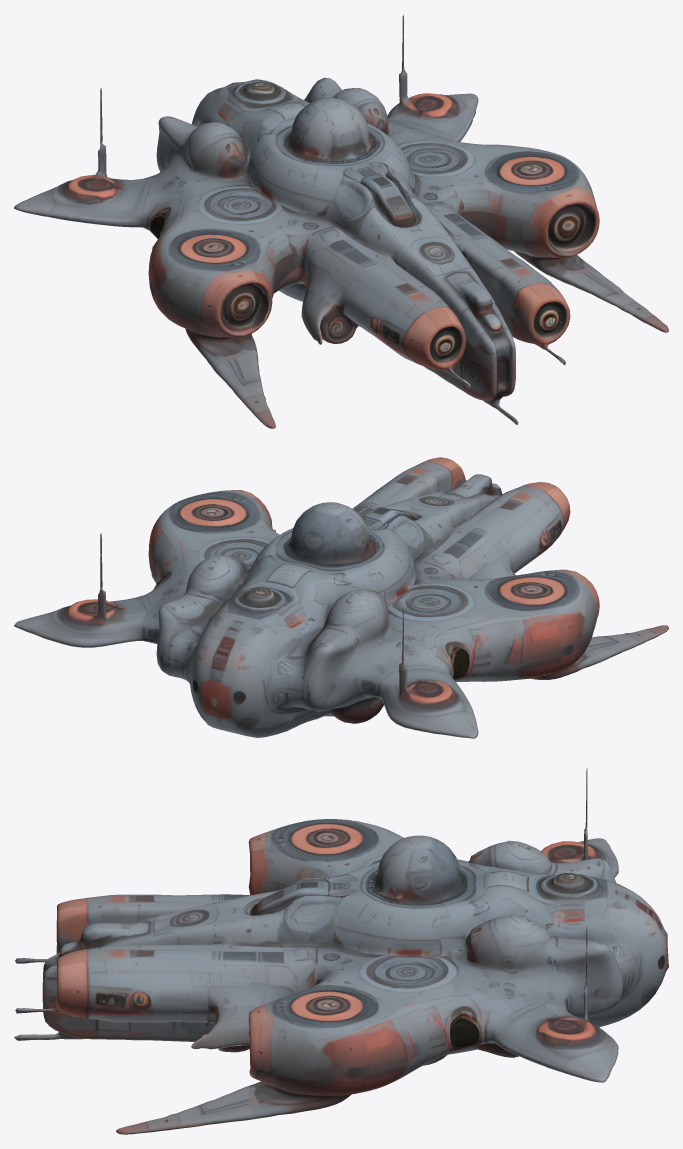
The model's file is naves Enemiga 3 .fbx.
The picture shows the model from 3 angles, top to bottom: view 1: azimuth 30°, elevation 25°; view 2: azimuth 150°, elevation 25°; view 3: azimuth 270°, elevation 25°; orthographic projection. The views are drawn at different scales.
Parts seen in each view (by area): view 1: Nave enemiga 3, Nave enemiga 3 _cell.015, Nave enemiga 3 _cell.058, Nave enemiga 3 _cell.037, Nave enemiga 3 _cell.004, Nave enemiga 3 _cell.077, Nave enemiga 3 _cell.067, Nave enemiga 3 _cell.089, Nave enemiga 3 _cell.019, Nave enemiga 3 _cell.095, Nave enemiga 3 _cell.069, Nave enemiga 3 _cell.053 (+28 smaller); view 2: Nave enemiga 3, Nave enemiga 3 _cell.090, Nave enemiga 3 _cell.085, Nave enemiga 3 _cell.025, Nave enemiga 3 _cell.012, Nave enemiga 3 _cell.032, Nave enemiga 3 _cell.036, Nave enemiga 3 _cell.067, Nave enemiga 3 _cell.001, Nave enemiga 3 _cell.087, Nave enemiga 3 _cell.092, Nave enemiga 3 _cell.007 (+29 smaller); view 3: Nave enemiga 3, Nave enemiga 3 _cell.058, Nave enemiga 3 _cell.004, Nave enemiga 3 _cell.015, Nave enemiga 3 _cell.070, Nave enemiga 3 _cell.066, Nave enemiga 3 _cell.029, Nave enemiga 3 _cell.037, Nave enemiga 3 _cell.053, Nave enemiga 3 _cell, Nave enemiga 3 _cell.012, Nave enemiga 3 _cell.055 (+22 smaller).
Part boxes in pixels (x1,y1,x2,y2): Nave enemiga 3: [18, 15, 668, 428]; Nave enemiga 3 _cell.015: [500, 163, 599, 277]; Nave enemiga 3 _cell.058: [330, 123, 468, 208]; Nave enemiga 3 _cell.037: [168, 236, 268, 301]; Nave enemiga 3 _cell.004: [431, 171, 521, 259]; Nave enemiga 3 _cell.077: [186, 296, 266, 380]; Nave enemiga 3 _cell.067: [291, 98, 366, 160]; Nave enemiga 3 _cell.089: [364, 303, 415, 361]; Nave enemiga 3 _cell.019: [90, 189, 170, 238]; Nave enemiga 3 _cell.095: [441, 238, 516, 297]; Nave enemiga 3 _cell.069: [230, 231, 305, 298]; Nave enemiga 3 _cell.053: [562, 271, 668, 331]; Nave enemiga 3: [15, 460, 668, 738]; Nave enemiga 3 _cell.090: [192, 639, 271, 731]; Nave enemiga 3 _cell.085: [440, 605, 533, 682]; Nave enemiga 3 _cell.025: [253, 672, 368, 727]; Nave enemiga 3 _cell.012: [14, 599, 127, 647]; Nave enemiga 3 _cell.032: [284, 581, 351, 653]; Nave enemiga 3 _cell.036: [218, 587, 287, 657]; Nave enemiga 3 _cell.067: [298, 503, 383, 557]; Nave enemiga 3 _cell.001: [526, 605, 588, 679]; Nave enemiga 3 _cell.087: [270, 628, 352, 684]; Nave enemiga 3 _cell.092: [344, 615, 413, 684]; Nave enemiga 3 _cell.007: [457, 593, 548, 666]; Nave enemiga 3: [14, 768, 668, 1134]; Nave enemiga 3 _cell.058: [303, 862, 410, 981]; Nave enemiga 3 _cell.004: [198, 948, 360, 1042]; Nave enemiga 3 _cell.015: [248, 992, 343, 1085]; Nave enemiga 3 _cell.070: [293, 1011, 382, 1111]; Nave enemiga 3 _cell.066: [56, 948, 114, 1008]; Nave enemiga 3 _cell.029: [96, 945, 150, 1022]; Nave enemiga 3 _cell.037: [248, 819, 351, 871]; Nave enemiga 3 _cell.053: [117, 1086, 252, 1134]; Nave enemiga 3 _cell: [529, 894, 590, 942]; Nave enemiga 3 _cell.012: [508, 1017, 618, 1082]; Nave enemiga 3 _cell.055: [588, 969, 657, 1025].
Size of the model in its own units: 167 by 71.25 by 190.
